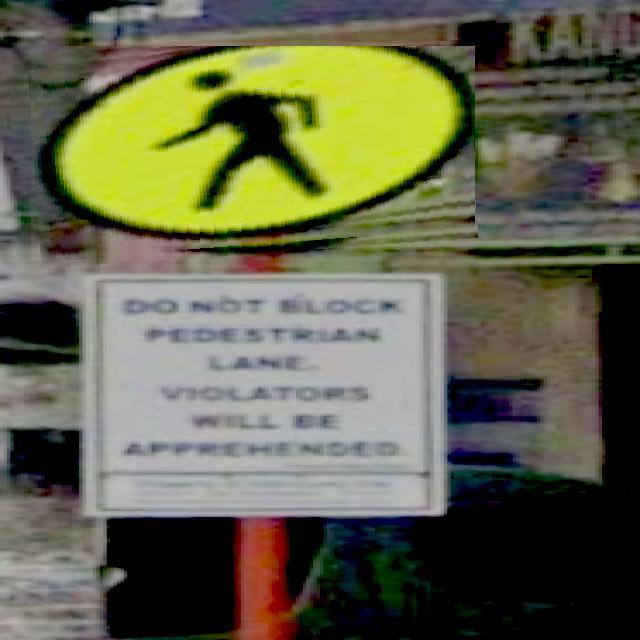pedestrian crossing: (31, 46, 475, 261)
